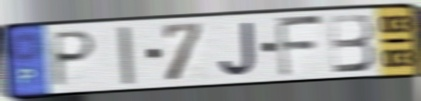7: (161, 21, 206, 84)
B: (327, 11, 378, 75)
F: (274, 14, 326, 79)
I: (115, 24, 137, 87)
J: (217, 20, 258, 78)
P: (51, 29, 99, 89)
